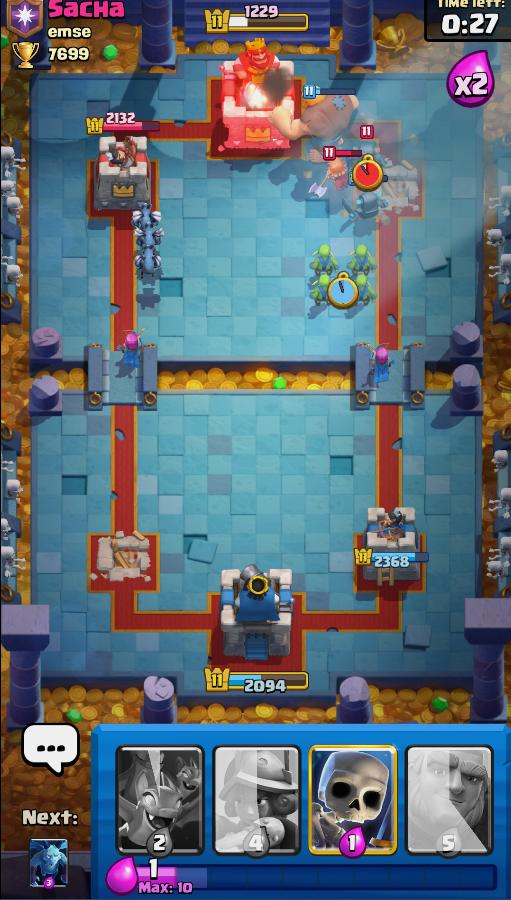archere: (348, 342, 427, 415), (107, 322, 164, 391)
gargouille: (125, 196, 164, 234), (129, 246, 168, 282), (130, 224, 174, 254)
geant: (269, 72, 381, 166)
gobelin: (341, 242, 387, 282), (302, 270, 342, 315), (347, 270, 391, 308), (304, 242, 345, 282)
mini_PEKKA: (341, 182, 395, 228)
valkyrie: (313, 158, 368, 202)
